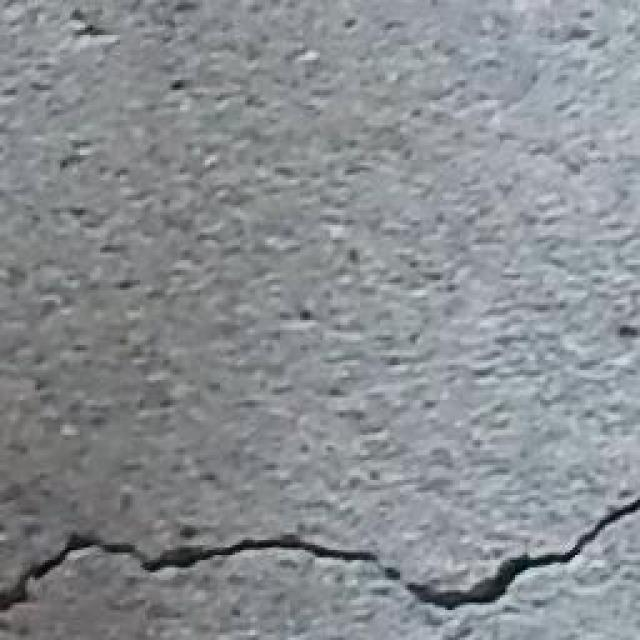concrete-crack: (0, 500, 640, 612)
